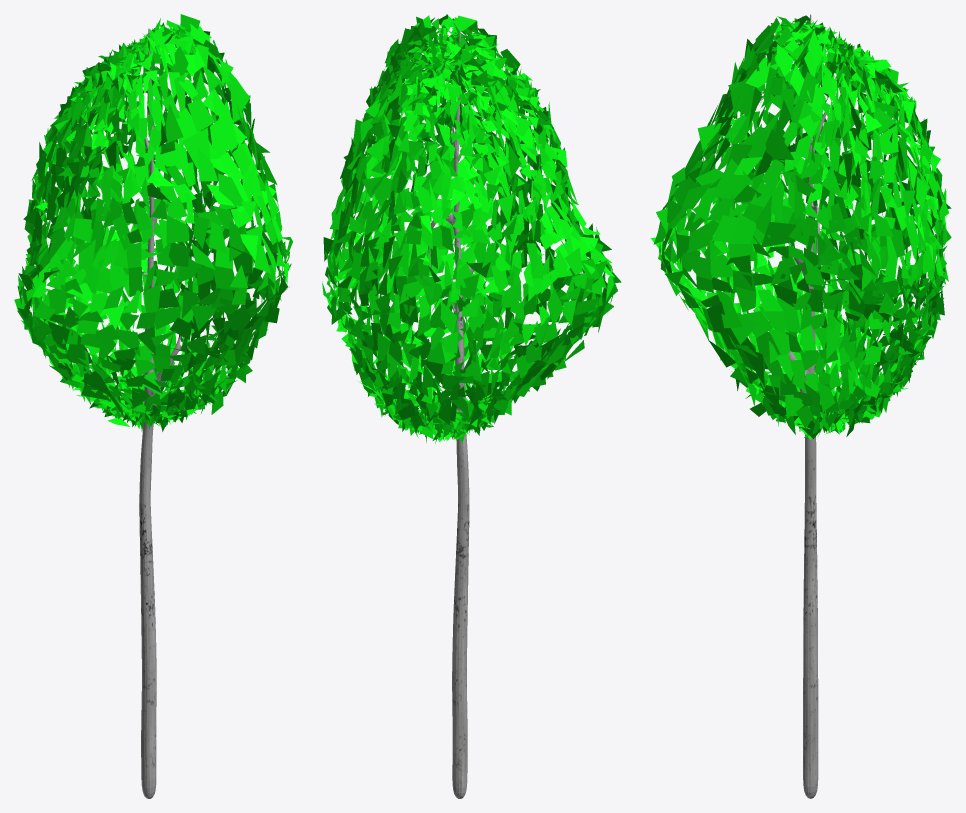
File: Trunk1bake.020.fbx
3 views of the same model, side by side, from view 1: azimuth 30°, elevation 25°; view 2: azimuth 150°, elevation 25°; view 3: azimuth 270°, elevation 25° (orthographic). The views are drawn at different scales.
Parts seen in each view (by area): view 1: Trunk1bake.020; view 2: Trunk1bake.020; view 3: Trunk1bake.020.
Boxes of the visible parts, x1,y1,x2,y2 form: Trunk1bake.020: (14, 14, 292, 798); Trunk1bake.020: (322, 14, 621, 798); Trunk1bake.020: (650, 14, 951, 798).
Bounding box in the file's own units: 859 × 2587 × 896.
2 materials, 1 textured.
